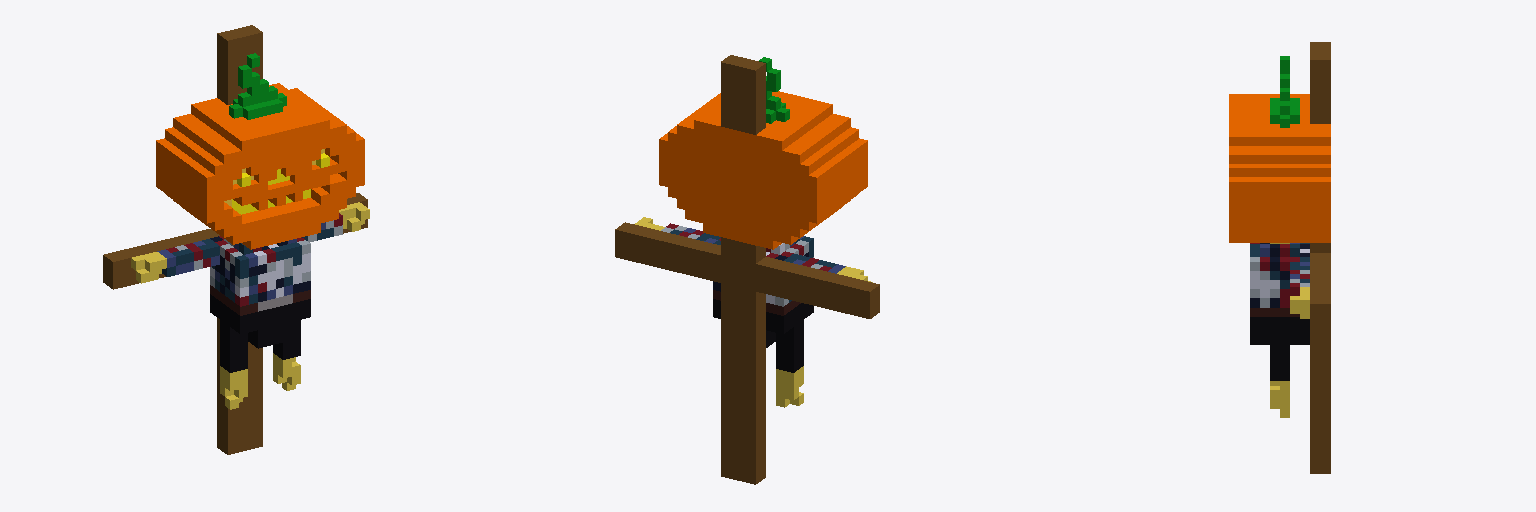
3 views of the same model, side by side, from view 1: azimuth 30°, elevation 25°; view 2: azimuth 150°, elevation 25°; view 3: azimuth 270°, elevation 25° (orthographic).
Visible parts, largest first — view 1: object 1; view 2: object 1; view 3: object 1.
Boxes of the visible parts, box(x1,y1,x2,y2) form: object 1: box(103, 25, 369, 454); object 1: box(615, 55, 879, 484); object 1: box(1229, 42, 1330, 473).
Bounding box in the file's own units: 2.9 × 4.5 × 1.
Materials: 1 (1 with a texture image).